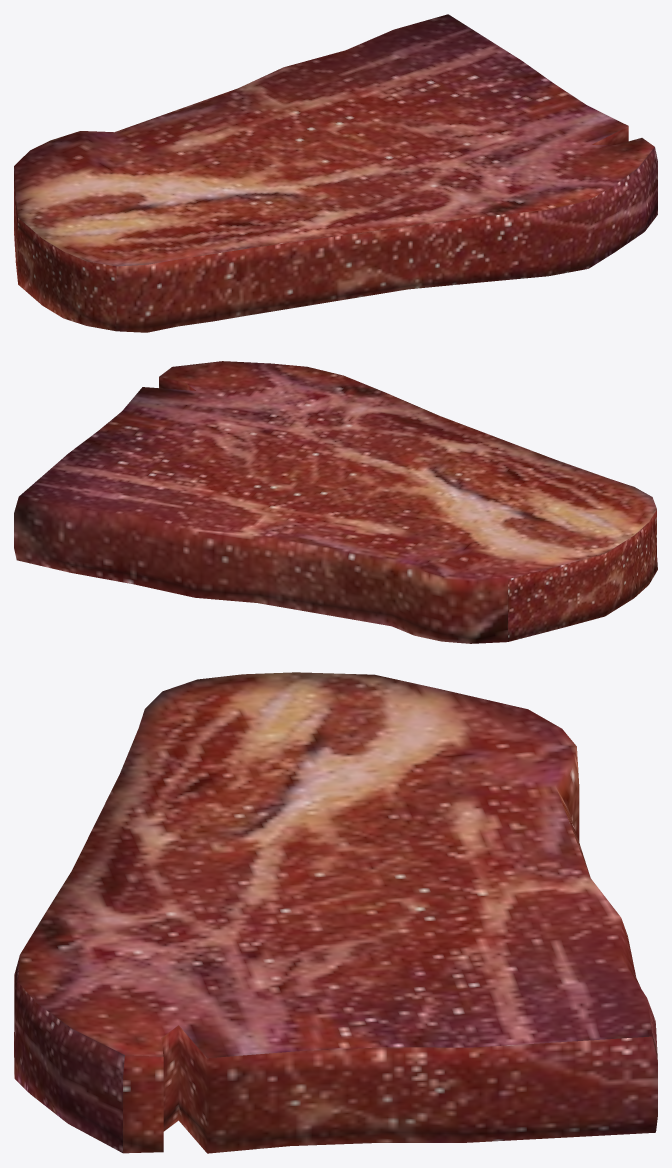
The model's file is Food_Meat.glb.
The picture shows the model from 3 angles, top to bottom: view 1: azimuth 30°, elevation 25°; view 2: azimuth 150°, elevation 25°; view 3: azimuth 270°, elevation 25°; orthographic projection. The views are drawn at different scales.
Visible parts, largest first — view 1: Food_Meat; view 2: Food_Meat; view 3: Food_Meat.
Part boxes in pixels (bbox=[...]): Food_Meat: bbox=[14, 14, 657, 332]; Food_Meat: bbox=[14, 361, 657, 643]; Food_Meat: bbox=[14, 672, 657, 1153].
Bounding box in the file's own units: 0.45 × 0.0558 × 0.3174.
1 material, 1 textured.
